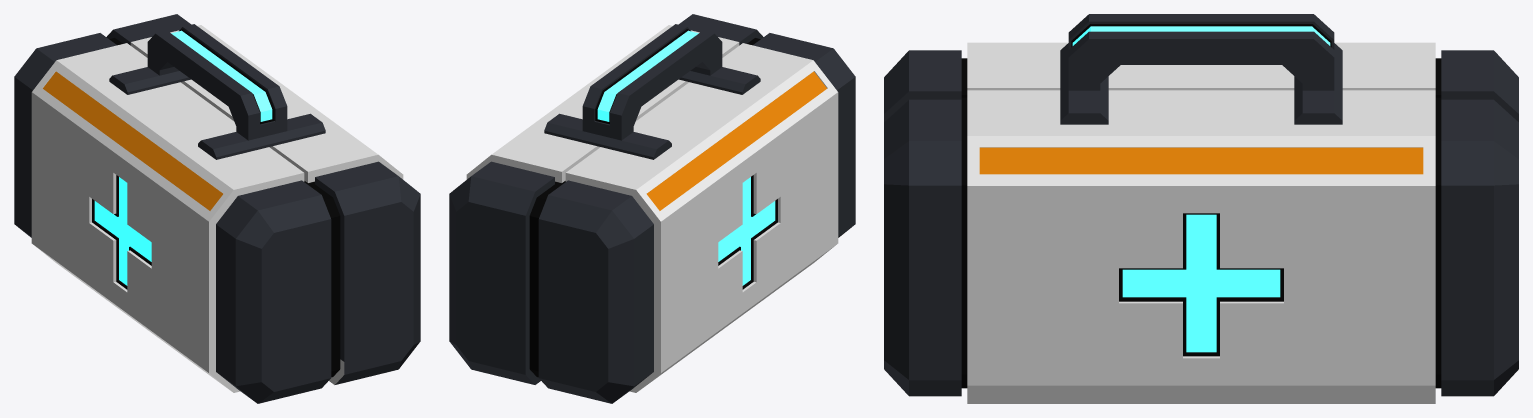
File: SM_MedicalCase.fbx
The picture shows the model from 3 angles, left to right: view 1: azimuth 30°, elevation 25°; view 2: azimuth 150°, elevation 25°; view 3: azimuth 270°, elevation 25°; orthographic projection. The views are drawn at different scales.
Parts seen in each view (by area): view 1: SM_MedicalCase; view 2: SM_MedicalCase; view 3: SM_MedicalCase.
Boxes of the visible parts, x1,y1,x2,y2 form: SM_MedicalCase: (14, 14, 420, 403); SM_MedicalCase: (449, 14, 855, 403); SM_MedicalCase: (884, 14, 1518, 403).
Bounding box in the file's own units: 16.53 × 20.4 × 35.49.
